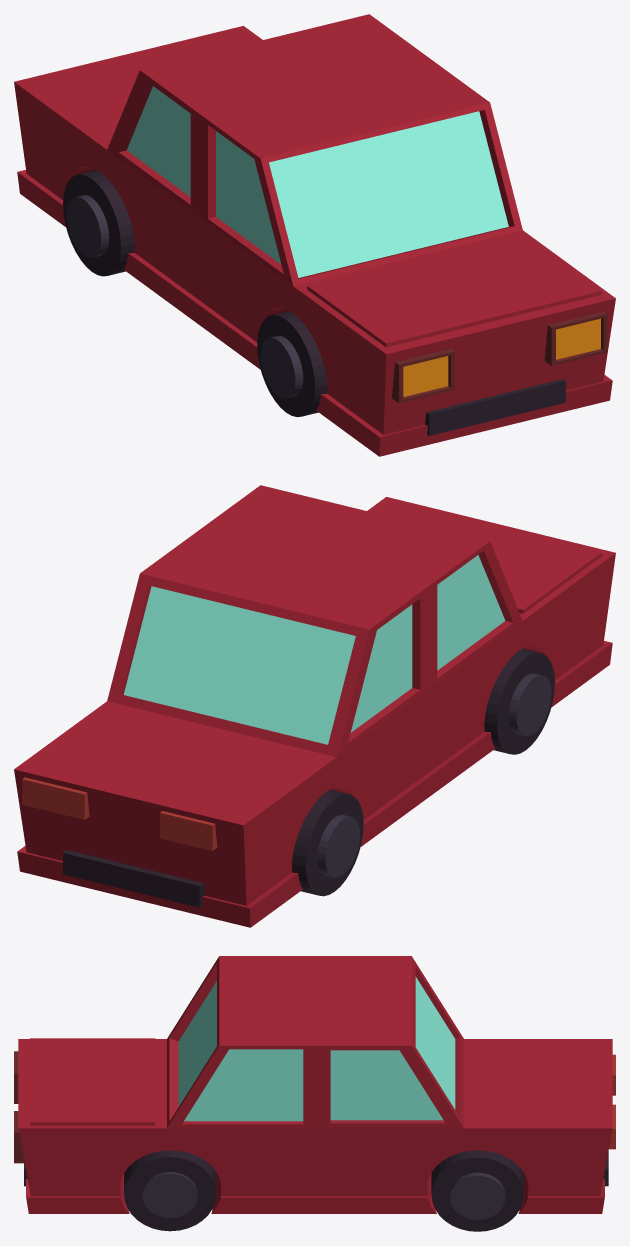
The model's file is Car 1.fbx.
3 views of the same model, one above another, from view 1: azimuth 30°, elevation 25°; view 2: azimuth 150°, elevation 25°; view 3: azimuth 270°, elevation 25° (orthographic). The views are drawn at different scales.
Visible parts, largest first — view 1: Body, Back wheels, Front wheels, Front License Plate, Front Light 2, Front Light 1; view 2: Body, Back wheels, Front wheels, Back License Plate, Back Light 1, Back Light 2; view 3: Body, Back wheels, Front wheels.
Part boxes in pixels (left/top/right/bottom): Body: left=14, top=14, right=615, bottom=456; Back wheels: left=63, top=170, right=134, bottom=276; Front wheels: left=257, top=311, right=327, bottom=417; Front License Plate: left=425, top=379, right=565, bottom=435; Front Light 2: left=544, top=311, right=607, bottom=365; Front Light 1: left=392, top=348, right=454, bottom=403; Body: left=14, top=485, right=615, bottom=927; Back wheels: left=292, top=790, right=363, bottom=896; Front wheels: left=484, top=648, right=554, bottom=754; Back License Plate: left=63, top=850, right=204, bottom=907; Back Light 1: left=22, top=777, right=89, bottom=819; Back Light 2: left=160, top=811, right=217, bottom=850; Body: left=18, top=956, right=612, bottom=1213; Back wheels: left=431, top=1150, right=523, bottom=1231; Front wheels: left=124, top=1150, right=216, bottom=1231.
Size of the model in its own units: 305 by 259 by 769.
